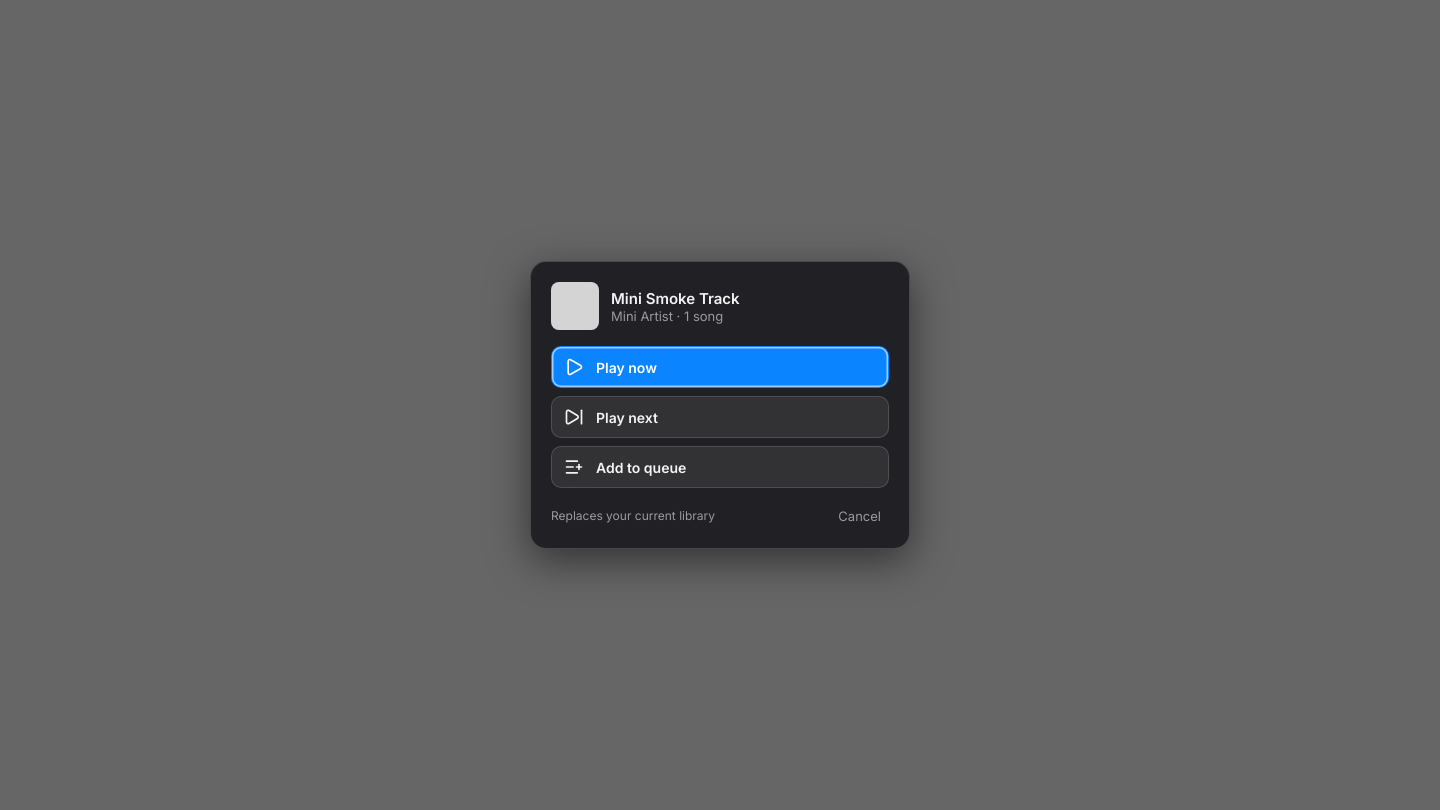
Test: AddTracksDialog › keyboard focus drives the hint too, and a hover wins over it while the pointer is there
The image size is (1440, 810).
Focus the button "Add to queue" at (641, 467), box top-left (551, 446), bottom-right (889, 488)
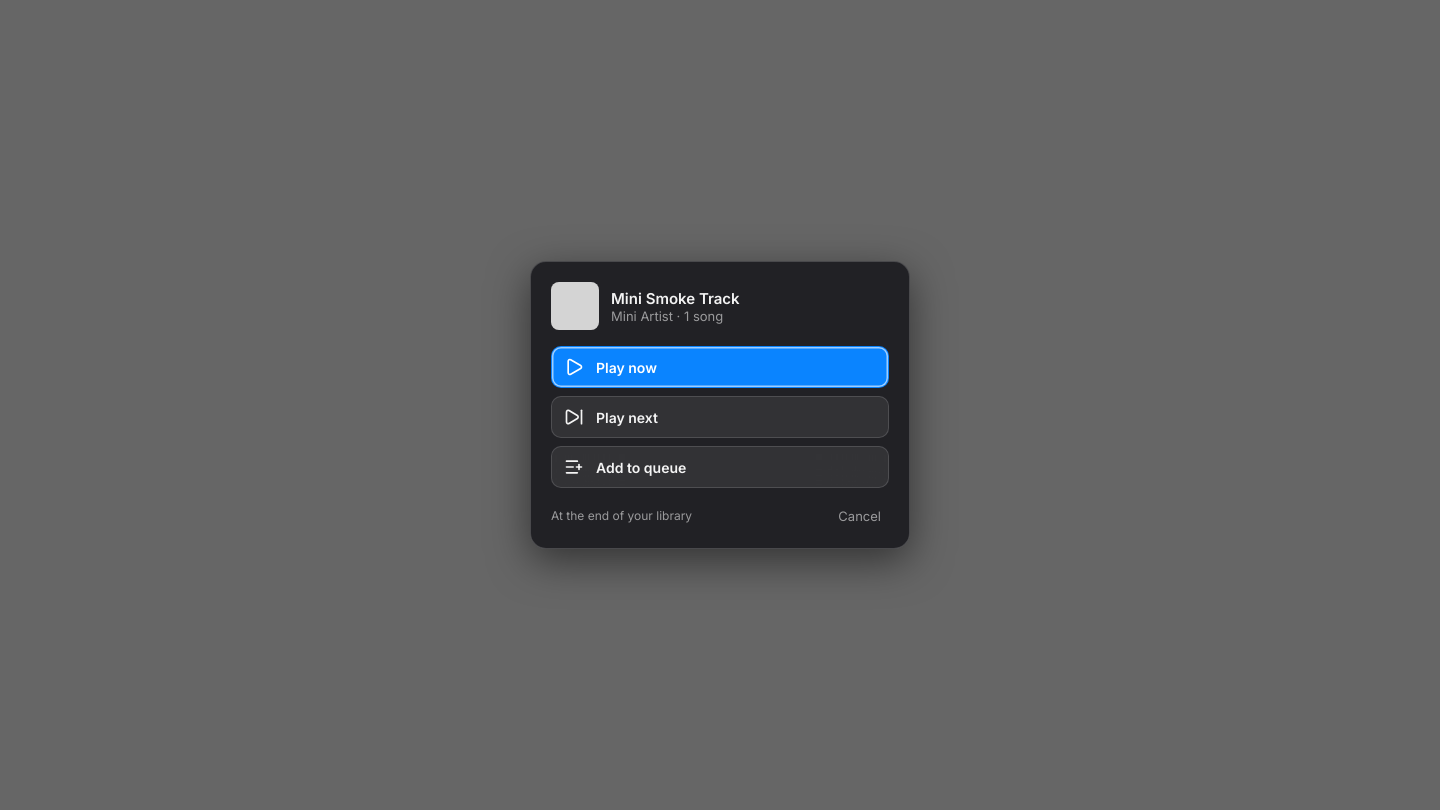
Check: the text with class "add-dialog-hint" reads "At the end of your library", box top-left (551, 508), bottom-right (692, 523)
Hover over the button "Play next" at (627, 417), box top-left (551, 396), bottom-right (889, 438)
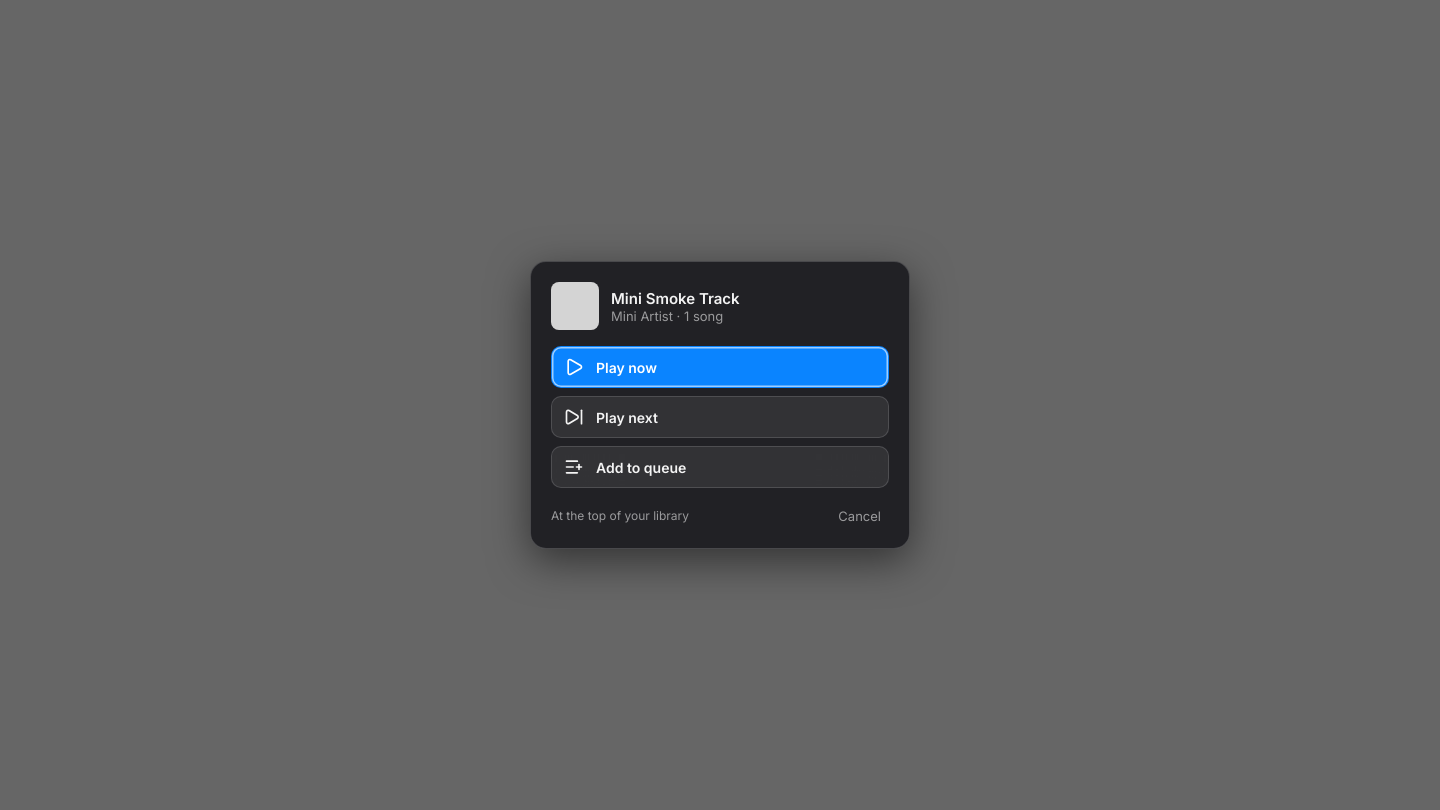
Check: the text with class "add-dialog-hint" reads "At the top of your library", box top-left (551, 508), bottom-right (689, 523)
Move the pointer off the button "Play next", box top-left (551, 396), bottom-right (889, 438)
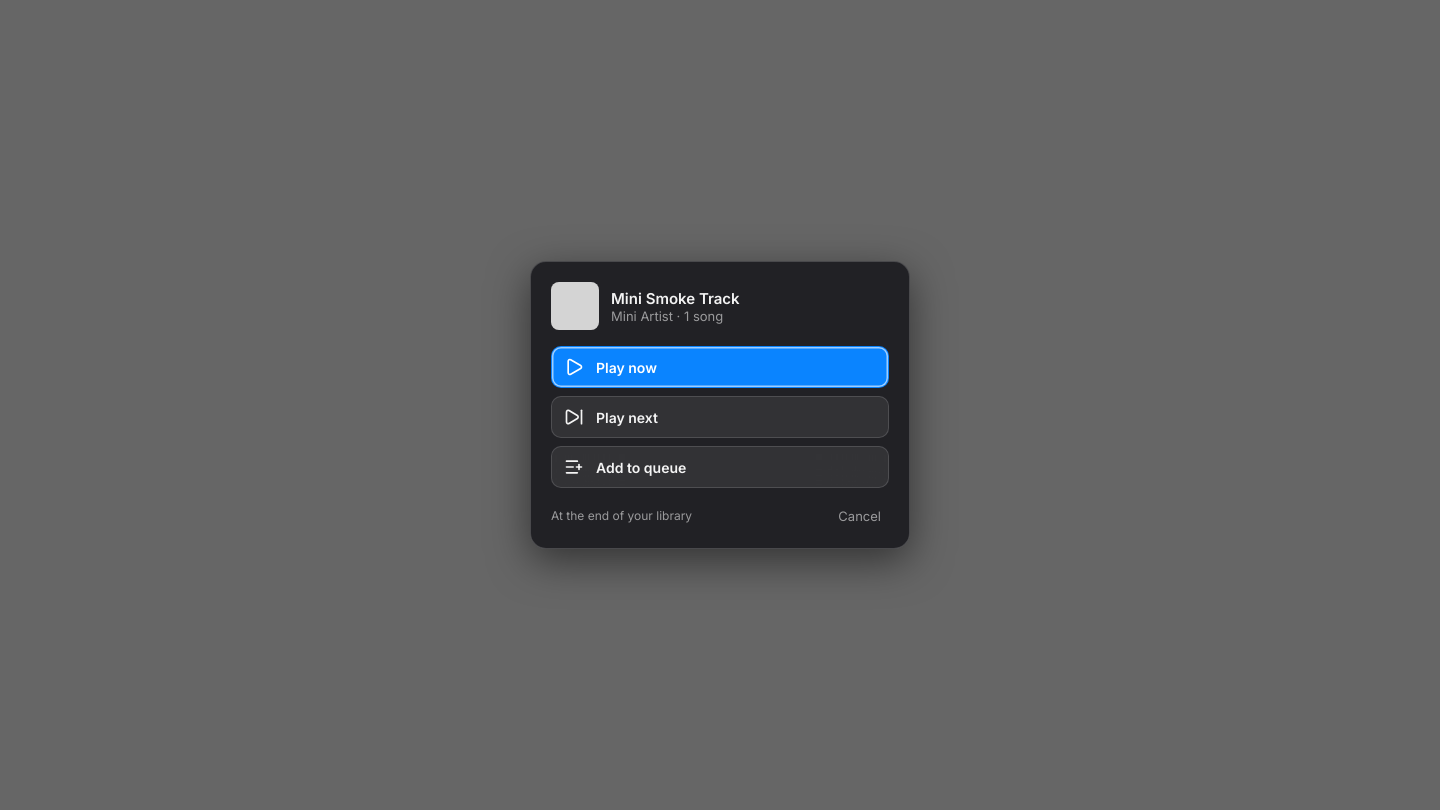
Check: the text with class "add-dialog-hint" reads "At the end of your library", box top-left (551, 508), bottom-right (692, 523)
